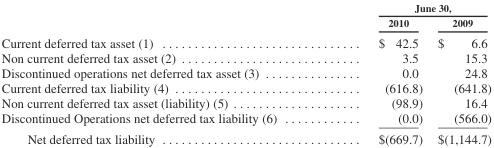table: (0, 1, 490, 145)
table column: (0, 1, 327, 145), (327, 1, 429, 145), (429, 1, 490, 145)
table column header: (0, 1, 490, 31)
table row: (0, 31, 490, 49), (0, 110, 490, 128), (0, 14, 490, 31), (0, 128, 490, 145), (0, 64, 490, 80), (0, 49, 490, 64), (0, 80, 490, 95), (0, 95, 490, 110), (0, 1, 490, 14)
table spanning cell: (327, 1, 490, 14)
